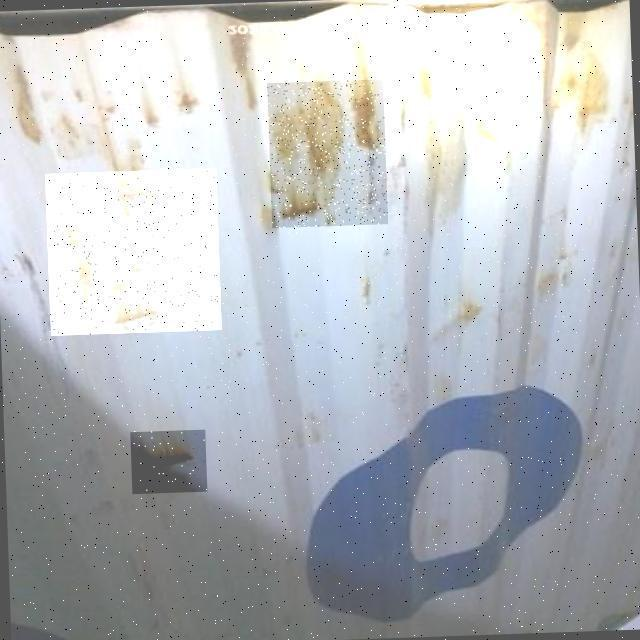rust: (46, 169, 223, 337), (268, 80, 389, 229), (131, 428, 208, 495)
